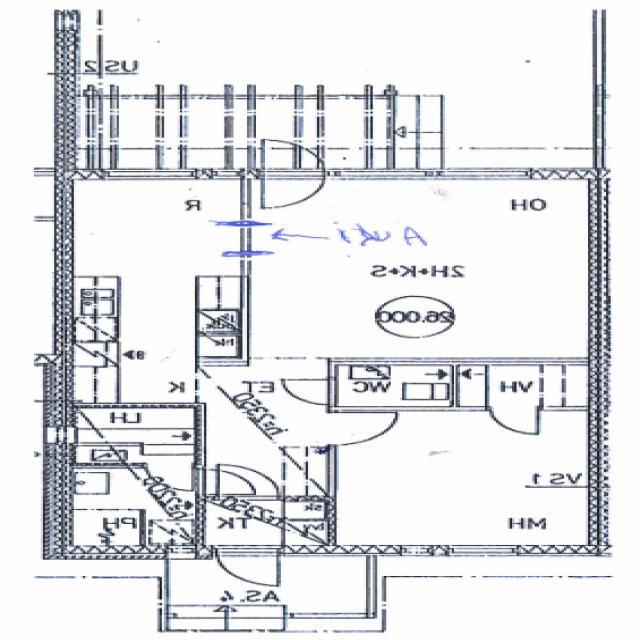door: (218, 546, 280, 589), (263, 137, 324, 180), (263, 169, 324, 211), (330, 414, 400, 446), (219, 466, 278, 502), (280, 379, 340, 404), (491, 407, 541, 436), (145, 464, 193, 494), (196, 471, 254, 495)
